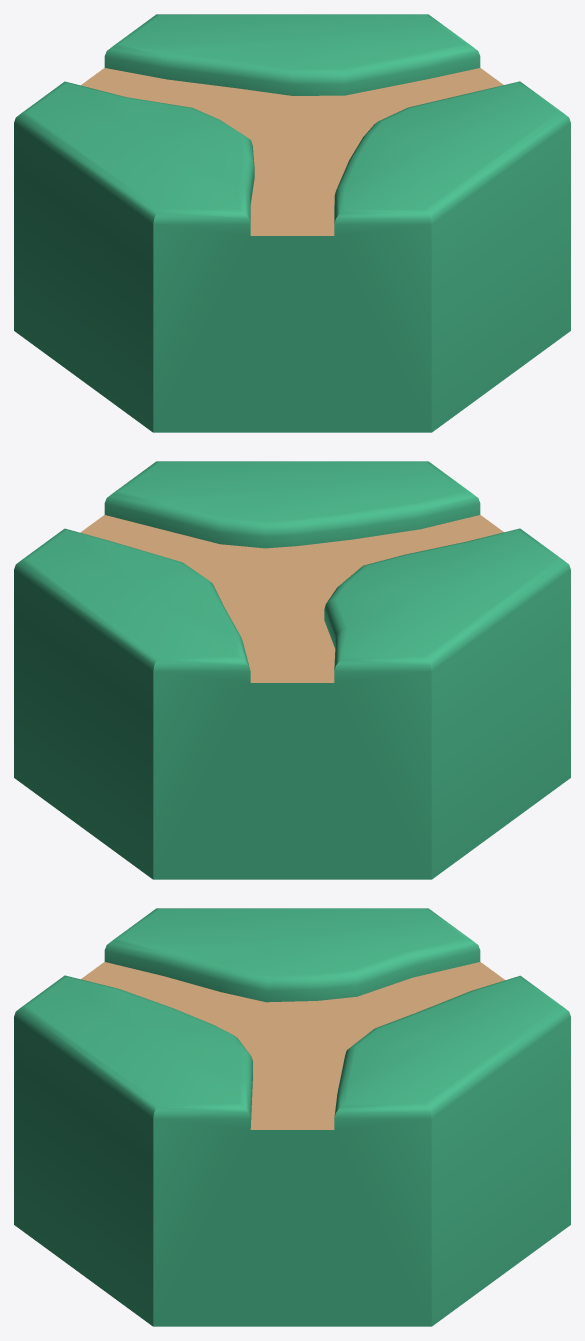
The model's file is hex_forest_roadG.glb.
3 renders of one model, top to bottom at view 1: azimuth 30°, elevation 25°; view 2: azimuth 150°, elevation 25°; view 3: azimuth 270°, elevation 25°, orthographic.
Visible parts, largest first — view 1: hex_forest_roadG; view 2: hex_forest_roadG; view 3: hex_forest_roadG.
Part boxes in pixels (x1,y1,x2,y2): hex_forest_roadG: (14,14,570,432); hex_forest_roadG: (14,461,570,879); hex_forest_roadG: (14,908,570,1326).
Size of the model in its own units: 2 by 1 by 2.31.
